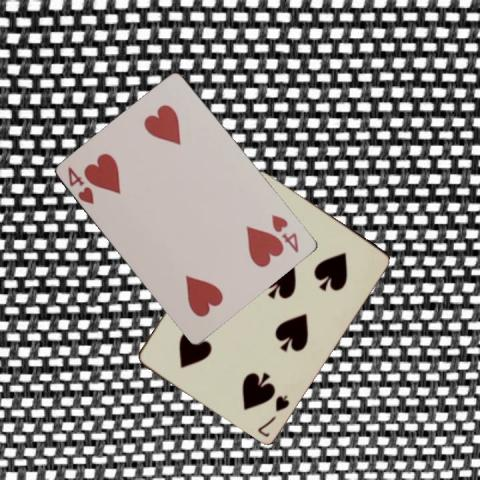4h: (268, 211, 300, 255), (65, 163, 96, 206)
7s: (254, 391, 291, 438)
